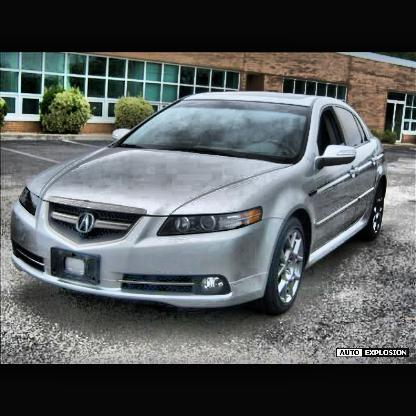Acura TL Type-S 2008: (12, 91, 389, 317)
